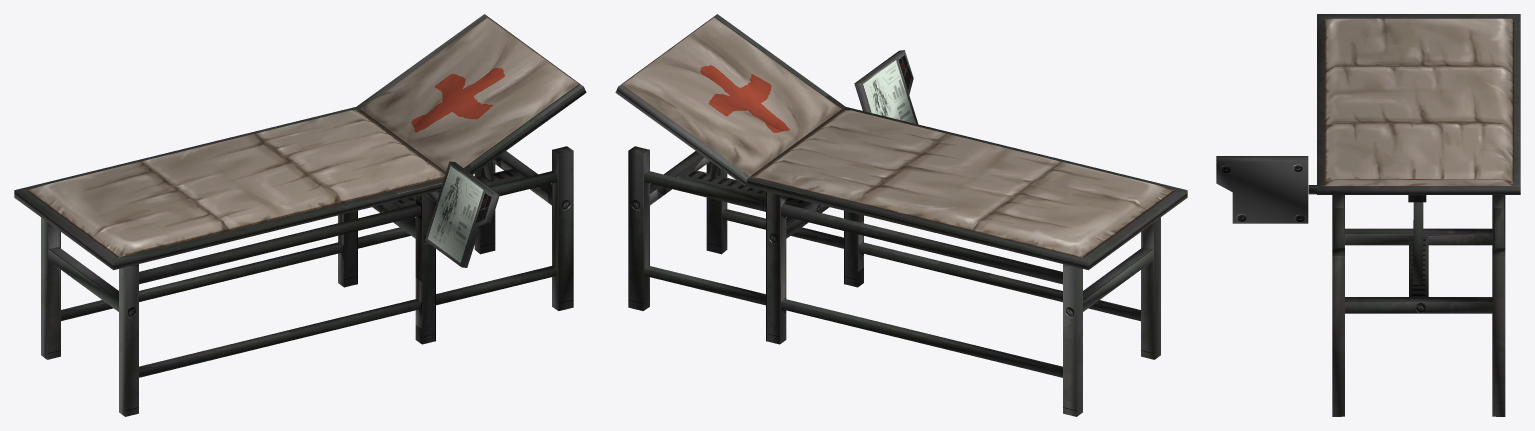
Rendered from sickbed.glb.
The picture shows the model from 3 angles, left to right: view 1: azimuth 30°, elevation 25°; view 2: azimuth 150°, elevation 25°; view 3: azimuth 270°, elevation 25°; orthographic projection. The views are drawn at different scales.
Parts seen in each view (by area): view 1: Box01; view 2: Box01; view 3: Box01.
Part boxes in pixels (bbox=[...]): Box01: bbox=[14, 14, 586, 416]; Box01: bbox=[615, 14, 1187, 416]; Box01: bbox=[1216, 14, 1520, 416].
Bounding box in the file's own units: 157 × 72.54 × 85.03.
1 material, 1 textured.
